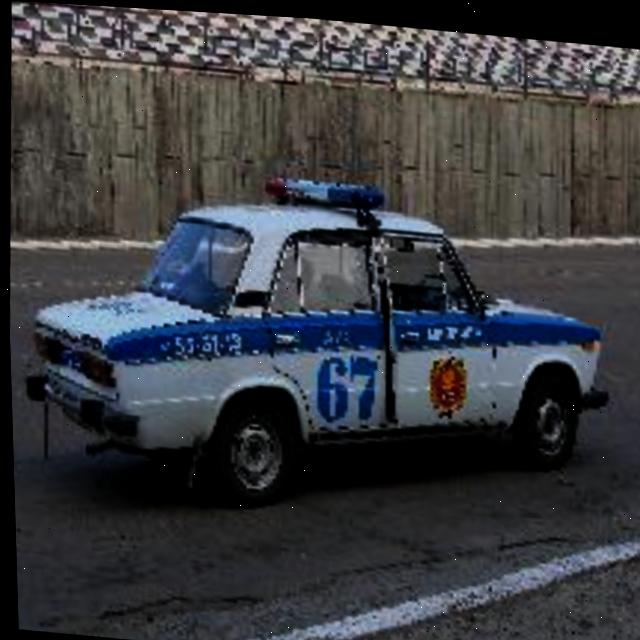emergency: (17, 139, 607, 520)
